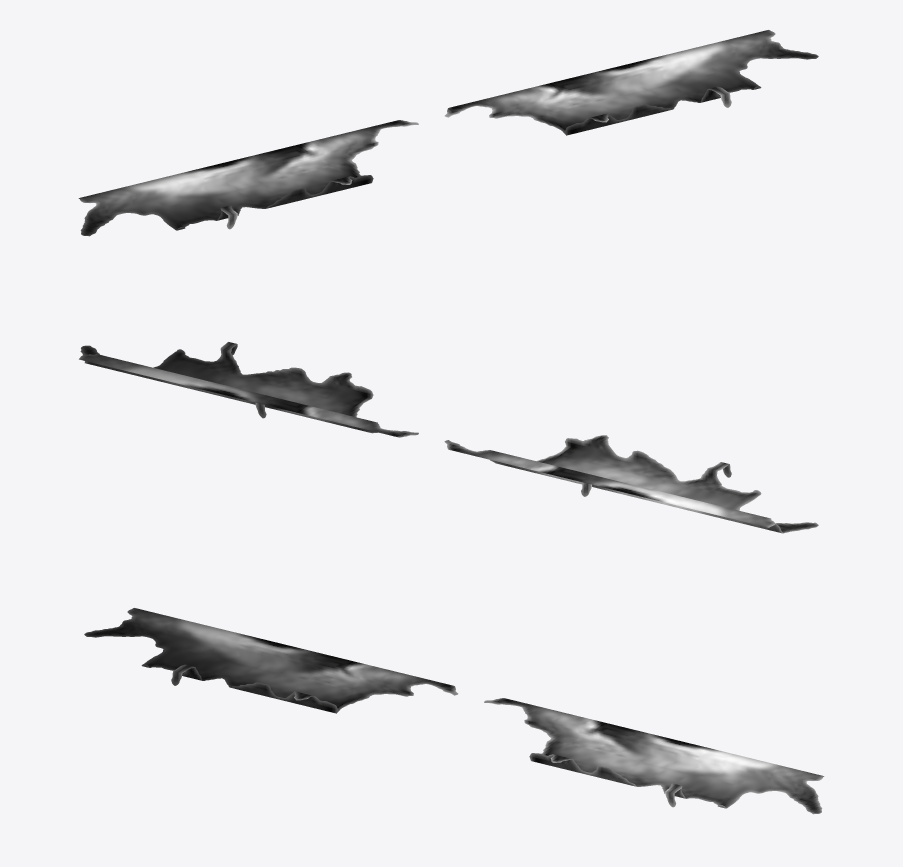
The picture shows the model from 3 angles, top to bottom: view 1: azimuth 30°, elevation 25°; view 2: azimuth 150°, elevation 25°; view 3: azimuth 330°, elevation 25°; orthographic projection.
Visible parts, largest first — view 1: Object69; view 2: Object69; view 3: Object69.
Part boxes in pixels (x1,y1,x2,y2): Object69: [78, 30, 818, 236]; Object69: [79, 342, 818, 533]; Object69: [84, 608, 824, 814].
Size of the model in its own units: 234 by 27.53 by 5.57.
